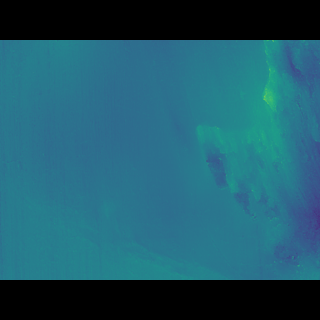Loch: (189, 70, 320, 247)
